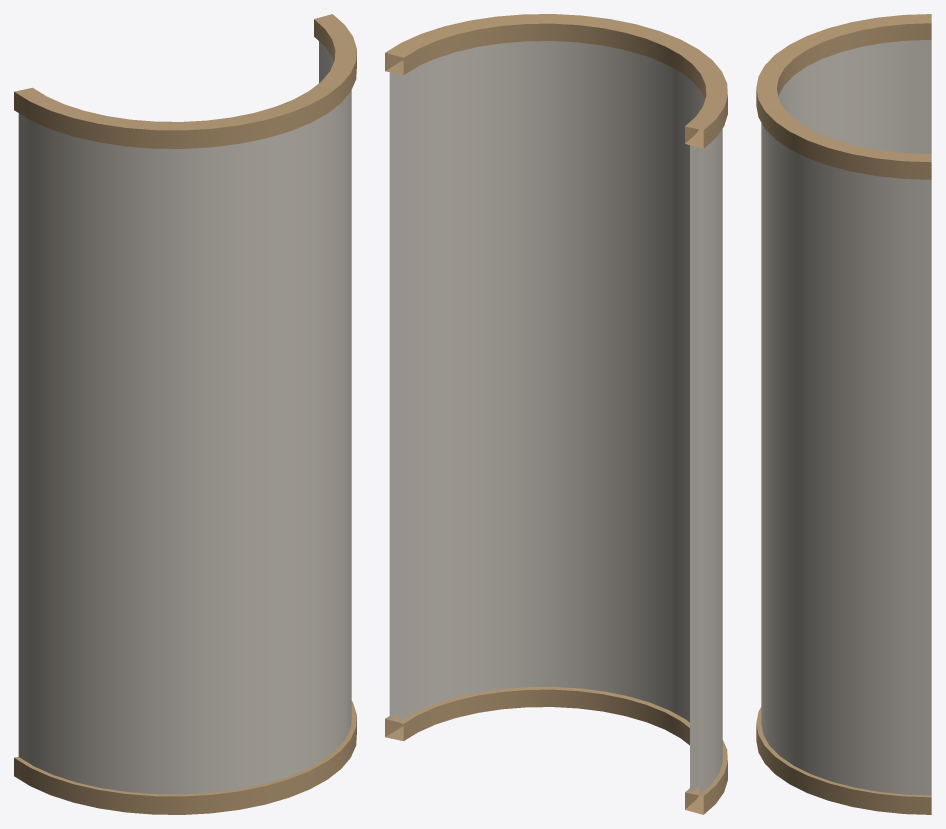
The model's file is tourLounge_light2.fbx.
The picture shows the model from 3 angles, left to right: view 1: azimuth 30°, elevation 25°; view 2: azimuth 150°, elevation 25°; view 3: azimuth 270°, elevation 25°; orthographic projection. The views are drawn at different scales.
Visible parts, largest first — view 1: polySurface3; view 2: polySurface3; view 3: polySurface3.
Boxes of the visible parts, left/top/right/bottom form: polySurface3: left=14, top=14, right=356, bottom=814; polySurface3: left=385, top=14, right=727, bottom=814; polySurface3: left=756, top=14, right=931, bottom=814.
Size of the model in its own units: 6.17 by 12.68 by 3.09.
